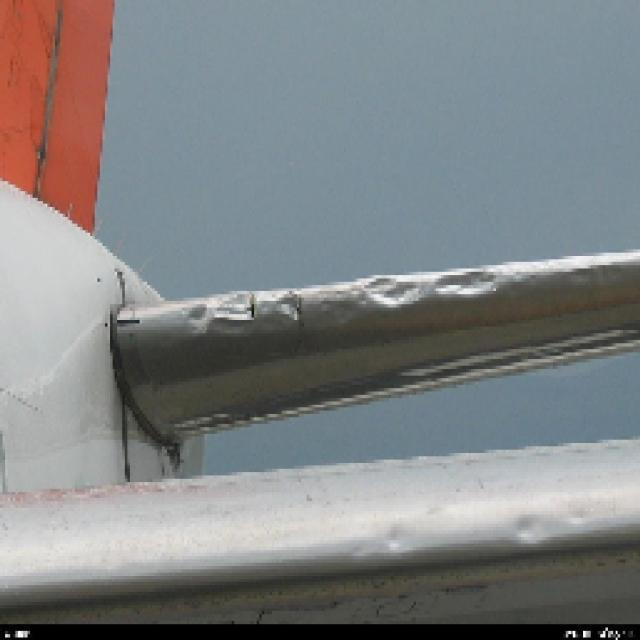dent: (348, 272, 426, 321), (426, 261, 505, 309), (182, 288, 256, 335), (270, 288, 306, 326), (514, 511, 549, 546), (384, 520, 414, 554)
